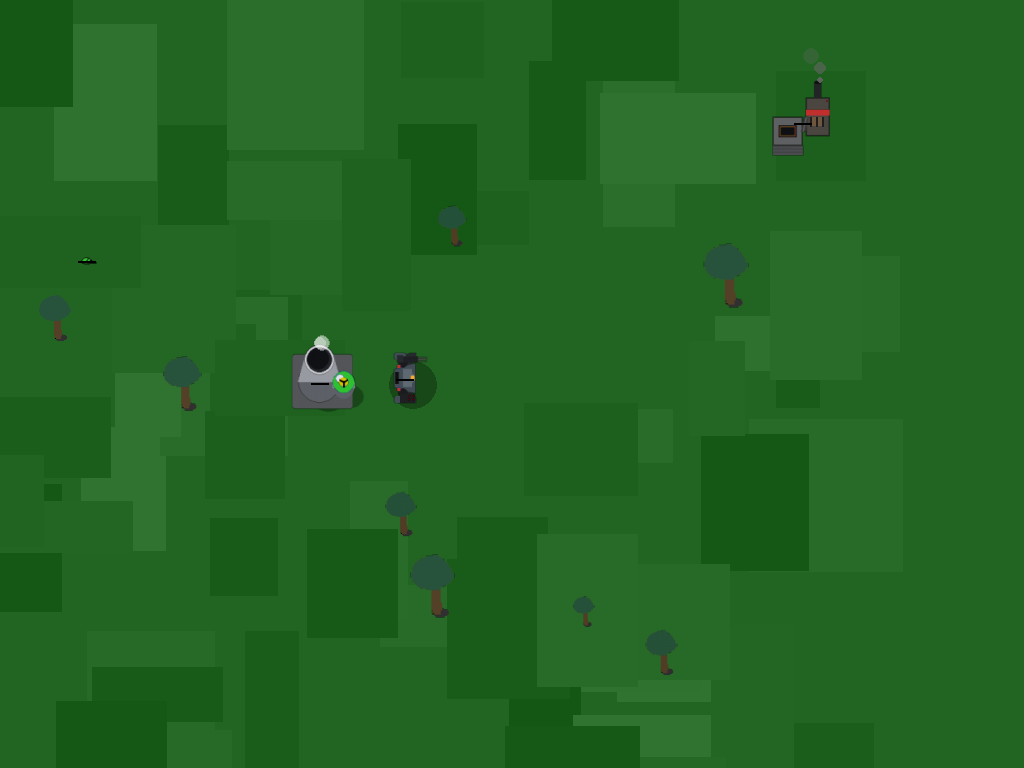APC_usa: (293, 355, 347, 409)
Bastion: (385, 357, 426, 398)
FactoryBuilding: (767, 85, 804, 157)
Sniper: (74, 247, 100, 273)
